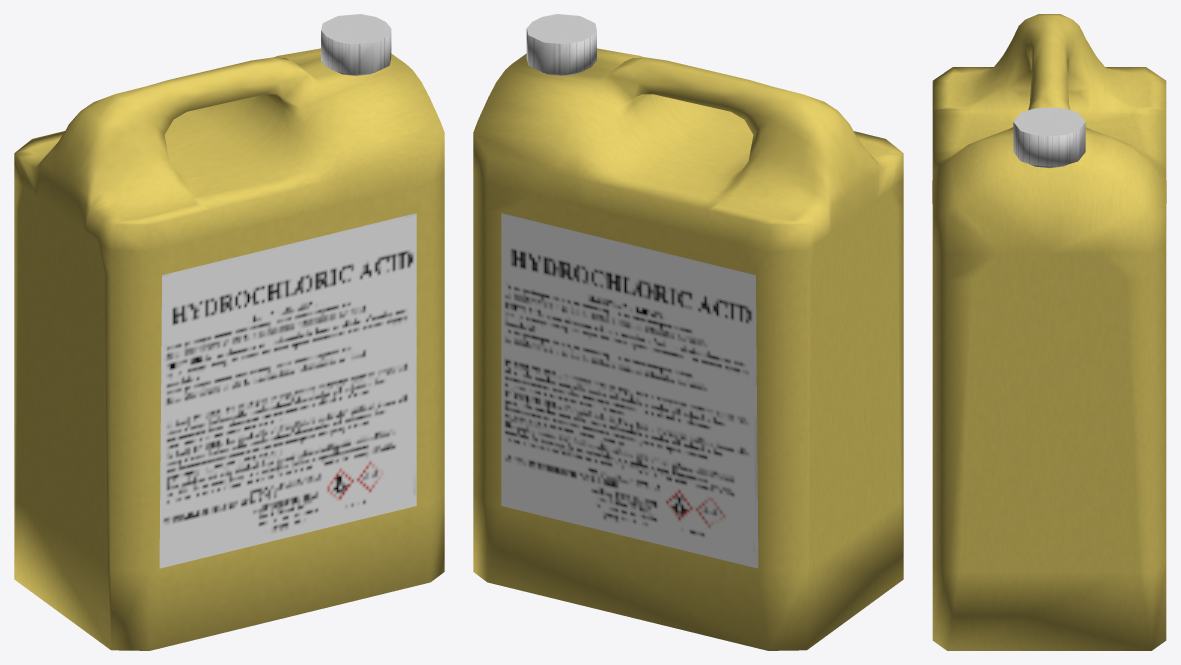
File: Item_ChAcidCan.fbx
The picture shows the model from 3 angles, left to right: view 1: azimuth 30°, elevation 25°; view 2: azimuth 150°, elevation 25°; view 3: azimuth 270°, elevation 25°; orthographic projection.
Parts seen in each view (by area): view 1: chemcan; view 2: chemcan; view 3: chemcan.
Part boxes in pixels (left/top/right/bottom): chemcan: left=14, top=14, right=444, bottom=650; chemcan: left=473, top=14, right=903, bottom=650; chemcan: left=932, top=14, right=1166, bottom=650.
Bounding box in the file's own units: 1.3 × 1.93 × 0.8023.
